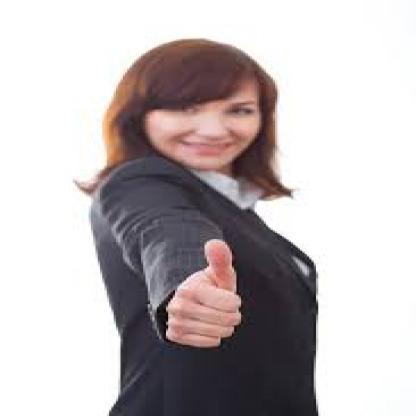thumb_up: (160, 236, 250, 350)
